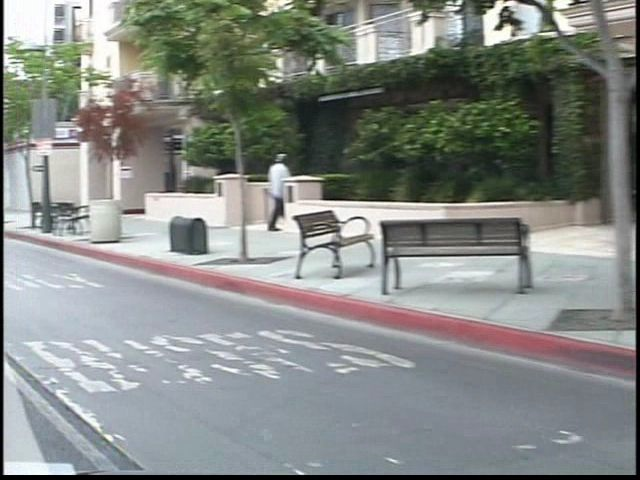person: (245, 145, 274, 237)
